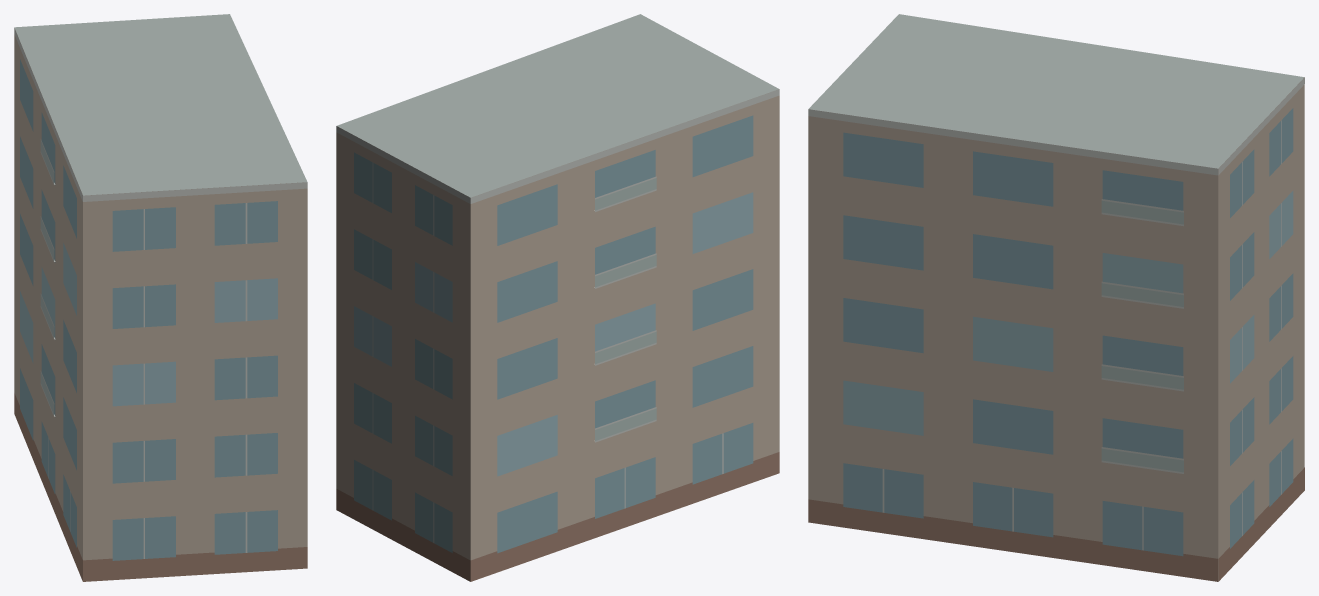
The model's file is survey-upis-32851055.glb.
3 renders of one model, left to right at view 1: azimuth 30°, elevation 25°; view 2: azimuth 150°, elevation 25°; view 3: azimuth 270°, elevation 25°, orthographic. The views are drawn at different scales.
Visible parts, largest first — view 1: survey-upis-32851055.tmp; view 2: survey-upis-32851055.tmp; view 3: survey-upis-32851055.tmp.
Part boxes in pixels (x1,y1,x2,y2): survey-upis-32851055.tmp: (14, 14, 307, 581); survey-upis-32851055.tmp: (336, 14, 779, 581); survey-upis-32851055.tmp: (808, 14, 1304, 581).
Bounding box in the file's own units: 11.73 × 14.6 × 15.91.
